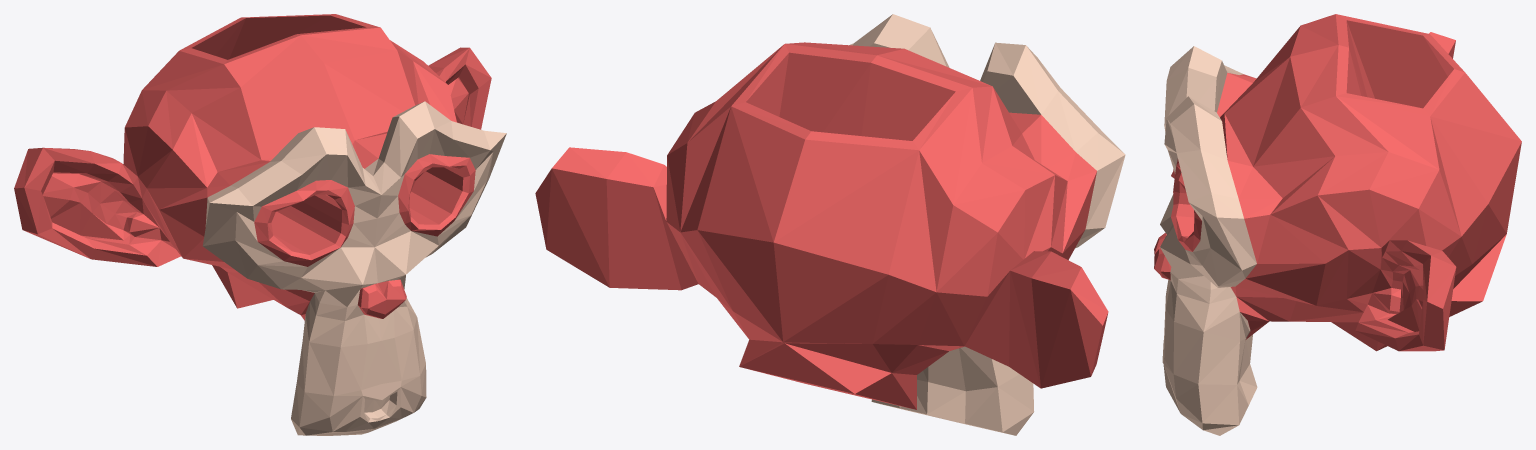
3 renders of one model, left to right at view 1: azimuth 30°, elevation 25°; view 2: azimuth 150°, elevation 25°; view 3: azimuth 270°, elevation 25°, orthographic. The views are drawn at different scales.
Visible parts, largest first — view 1: Monkey Back1 Double, Monkey Front1; view 2: Monkey Back1 Double, Monkey Front1; view 3: Monkey Back1 Double, Monkey Front1.
Part boxes in pixels (x1,y1,x2,y2): Monkey Back1 Double: (14, 14, 491, 320); Monkey Front1: (202, 101, 506, 435); Monkey Back1 Double: (535, 42, 1108, 409); Monkey Front1: (849, 14, 1125, 435); Monkey Back1 Double: (1154, 14, 1521, 351); Monkey Front1: (1160, 46, 1257, 435).
Size of the model in its own units: 0.8203 by 0.5833 by 0.5248.
